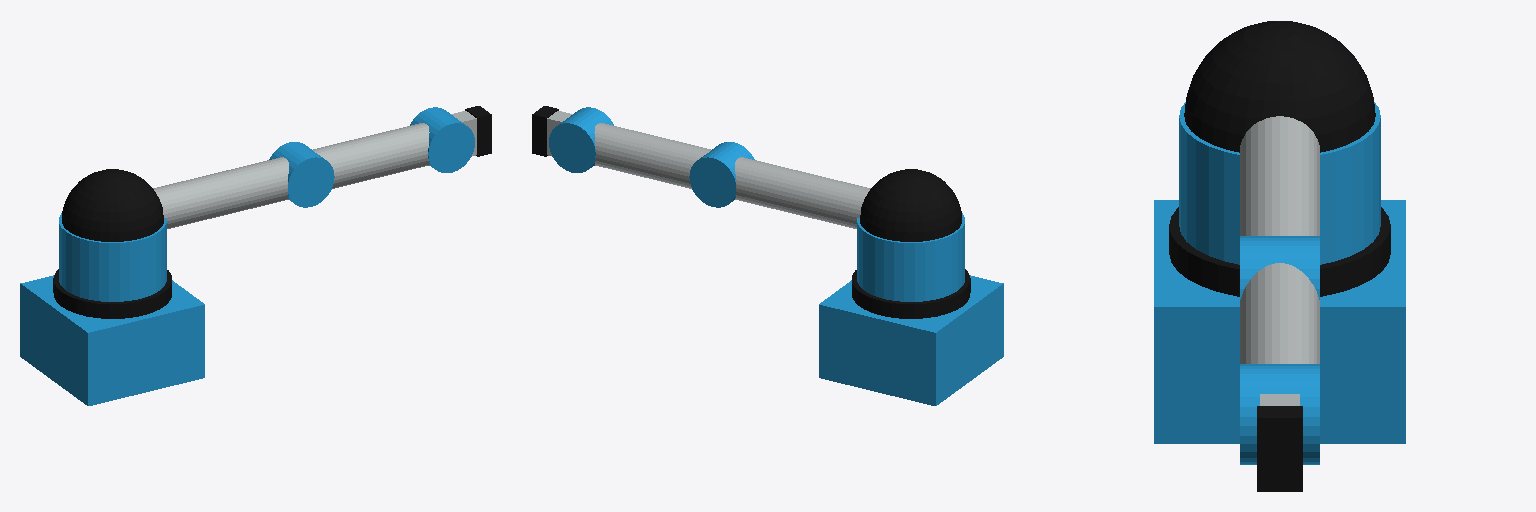
robot.urdf — simple_niryo:
<robot name="simple_niryo">

    <material name="blue">
        <color rgba="0.192157 0.643137 0.866667 1"/>
    </material>

    <material name="black">
        <color rgba="0.12 0.12 0.12 1"/>
    </material>

    <material name="silver">
        <color rgba="0.73 0.75 0.75 1"/>
    </material>

    <!-- WORLD -->
    <link name="world"/>

    <!-- [REQUIRED] BASE LINK -->
    <link name="base_link">
        <visual>
            <geometry>
                <box size="0.25 0.25 0.15"/>
            </geometry>
            <origin rpy="0 0 0" xyz="0 0 0.075"/>
            <material name="blue"/>
        </visual>
    </link>
    <joint name="world_to_base_link_joint" type="fixed">
        <parent link="world"/>
        <child link="base_link"/>
        <origin rpy="0 0 0" xyz="0 0 0"/>
    </joint>

    <!-- [OPTIONAL] VISUAL FOR SHOULDER LINK JOINT -->
    <link name="shoulder_juncture">
        <visual>
            <geometry>
                <cylinder length="0.03" radius="0.11"/>
            </geometry>
            <origin xyz="0 0 0.015"/>
            <material name="black"/>
        </visual>
    </link>
    <joint name="shoulder_juncture_joint" type="fixed">
        <parent link="base_link"/>
        <child link="shoulder_juncture"/>
        <origin rpy="0 0 0" xyz="0 0 0.15"/>
    </joint>

    <!-- SHOULDER LINK -->
    <link name="shoulder_link">
        <visual>
            <geometry>
                <cylinder length="0.15" radius="0.1"/>
            </geometry>
            <origin rpy="0 0 0" xyz="0 0 0.075"/>
            <material name="blue"/>
        </visual>
    </link>
    <joint name="base_to_shoulder_joint" type="revolute">
        <parent link="base_link"/>
        <child link="shoulder_link"/>
        <origin rpy="0 0 0" xyz="0 0 0.15"/>
        <axis xyz="0 0 1"/>
        <limit effort="1000.0" lower="-2.617994" upper="2.617994" velocity="0.5"/>
    </joint>

    <!-- [OPTIONAL] VISUAL FOR ELBOW LINK JOINT -->
    <link name="elbow_juncture">
        <visual>
            <geometry>
                <sphere radius="0.095"/>
            </geometry>
            <material name="black"/>
        </visual>
    </link>
    <joint name="elbow_juncture_joint" type="fixed">
        <parent link="shoulder_link"/>
        <child link="elbow_juncture"/>
        <origin rpy="0 0 0" xyz="0 0 0.15"/>
    </joint>

    <!-- ELBOW LINK -->
    <link name="elbow_link">
        <visual>
            <geometry>
                <cylinder length="0.4" radius="0.04"/>
            </geometry>
            <origin rpy="0 1.570796 0" xyz="0.2 0 0"/>
            <material name="silver"/>
        </visual>
    </link>
    <joint name="shoulder_to_elbow_joint" type="revolute">
        <parent link="shoulder_link"/>
        <child link="elbow_link"/>
        <origin rpy="1.570796 0 0" xyz="0 0 0.15"/>
        <axis xyz="0 0 1"/>
        <limit effort="1000.0" lower="-0.1745329" upper="3.490659" velocity="0.5"/>
    </joint>

    <!-- [OPTIONAL] VISUAL FOR WRIST LINK JOINT -->
    <link name="wrist_juncture">
        <visual>
            <geometry>
                <cylinder length="0.08" radius="0.05"/>
            </geometry>
            <origin rpy="0 0 0" xyz="0 0 0"/>
            <material name="blue"/>
        </visual>
    </link>
    <joint name="wrist_juncture_joint" type="fixed">
        <parent link="elbow_link"/>
        <child link="wrist_juncture"/>
        <origin rpy="0 0 0" xyz="0.4 0 0"/>
    </joint>

    <!-- WRIST LINK -->
    <link name="wrist_link">
        <visual>
            <geometry>
                <cylinder length="0.3" radius="0.04"/>
            </geometry>
            <origin rpy="0 1.570796 0" xyz="0.15 0 0"/>
            <material name="silver"/>
        </visual>
    </link>
    <joint name="elbow_to_wrist_joint" type="revolute">
        <parent link="elbow_link"/>
        <child link="wrist_link"/>
        <origin rpy="0 0 0" xyz="0.4 0 0"/>
        <axis xyz="0 0 1"/>
        <limit effort="1000.0" lower="-1.745329" upper="1.745329" velocity="0.5"/>
    </joint>

    <!-- [OPTIONAL] VISUAL FOR KNUCKLE LINK JOINT -->
    <link name="knuckle_juncture">
        <visual>
            <geometry>
                <cylinder length="0.08" radius="0.05"/>
            </geometry>
            <origin rpy="0 0 0" xyz="0 0 0"/>
            <material name="blue"/>
        </visual>
    </link>
    <joint name="knuckle_juncture_joint" type="fixed">
        <parent link="wrist_link"/>
        <child link="knuckle_juncture"/>
        <origin rpy="0 0 0" xyz="0.3 0 0"/>
    </joint>

    <!-- KNUCKLE LINK -->
    <link name="knuckle_link">
        <visual>
            <geometry>
                <box size="0.08 0.075 0.04"/>
            </geometry>
            <origin rpy="0 0 0" xyz="0.04 0 0"/>
            <material name="silver"/>
        </visual>
    </link>
    <joint name="wrist_to_hand_joint" type="revolute">
        <parent link="wrist_link"/>
        <child link="knuckle_link"/>
        <origin rpy="0 0 0" xyz="0.3 0 0"/>
        <axis xyz="0 0 1"/>
        <limit effort="1000.0" lower="-1.570796" upper="1.570796" velocity="0.5"/>
    </joint>

    <!-- [OPTIONAL] VISUAL FOR FINGER LINK JOINT -->
    <link name="finger_juncture">
        <visual>
            <geometry>
                <box size="0.03 0.08 0.045"/>
            </geometry>
            <material name="black"/>
        </visual>
    </link>
    <joint name="finger_juncture_joint" type="fixed">
        <parent link="knuckle_link"/>
        <child link="finger_juncture"/>
        <origin xyz="0.08 0 0"/>
    </joint>

    <!-- LEFT FINGER LINK -->
    <link name="left_finger_link">
        <visual>
            <geometry>
                <mesh filename="package://ned_description/meshes/l_finger.dae"/>
            </geometry>
            <origin xyz="0.01 0.02 0"/>
        </visual>
    </link>
    <joint name="knuckle_to_left_finger_joint" type="revolute">
        <parent link="knuckle_link"/>
        <child link="left_finger_link"/>
        <origin rpy="0 0 0" xyz="0.08 0 0"/>
        <axis xyz="0 0 1"/>
        <limit effort="1000.0" lower="-0.17" upper="0.548" velocity="0.5"/>
    </joint>

    <!-- RIGHT FINGER LINK -->
    <link name="right_finger_link">
        <visual>
            <geometry>
                <mesh filename="package://ned_description/meshes/l_finger.dae"/>
            </geometry>
            <origin rpy="3.141593 0 0" xyz="0.01 -0.02 0"/>
        </visual>
    </link>
    <joint name="knuckle_to_right_finger_joint" type="revolute">
        <parent link="knuckle_link"/>
        <child link="right_finger_link"/>
        <origin rpy="0 0 0" xyz="0.08 0 0"/>
        <axis xyz="0 0 1"/>
        <limit effort="1000.0" lower="-0.548" upper="0.17" velocity="0.5"/>
    </joint>

</robot>

--- Render facts (derived) ---
Views: 3 orthographic renders of the robot side by side, from view 1: azimuth 30°, elevation 25°; view 2: azimuth 150°, elevation 25°; view 3: azimuth 270°, elevation 25°.
Robot: simple_niryo — 13 links, 12 joints (6 revolute, 6 fixed); root link world; default pose: every joint at zero.
Links seen in each view (by area): view 1: base_link, shoulder_link, elbow_juncture, elbow_link, wrist_link, knuckle_juncture, wrist_juncture, shoulder_juncture, finger_juncture; view 2: base_link, shoulder_link, elbow_juncture, elbow_link, wrist_link, knuckle_juncture, wrist_juncture, shoulder_juncture, finger_juncture; view 3: base_link, elbow_juncture, shoulder_link, elbow_link, wrist_link, shoulder_juncture, knuckle_juncture, finger_juncture, wrist_juncture.
Link boxes in pixels (bbox=[...]): base_link: bbox=[20, 275, 204, 405]; shoulder_link: bbox=[59, 213, 166, 301]; elbow_juncture: bbox=[62, 169, 163, 241]; elbow_link: bbox=[153, 157, 288, 228]; wrist_link: bbox=[313, 123, 429, 188]; knuckle_juncture: bbox=[410, 107, 474, 172]; wrist_juncture: bbox=[269, 142, 334, 207]; shoulder_juncture: bbox=[53, 269, 171, 318]; finger_juncture: bbox=[465, 106, 491, 156]; base_link: bbox=[819, 275, 1003, 405]; shoulder_link: bbox=[857, 213, 964, 301]; elbow_juncture: bbox=[860, 169, 961, 241]; elbow_link: bbox=[735, 157, 870, 228]; wrist_link: bbox=[594, 123, 710, 188]; knuckle_juncture: bbox=[549, 107, 613, 172]; wrist_juncture: bbox=[689, 142, 754, 207]; shoulder_juncture: bbox=[852, 269, 970, 318]; finger_juncture: bbox=[532, 106, 558, 156]; base_link: bbox=[1154, 200, 1405, 443]; elbow_juncture: bbox=[1184, 21, 1375, 152]; shoulder_link: bbox=[1179, 102, 1380, 264]; elbow_link: bbox=[1240, 116, 1319, 235]; wrist_link: bbox=[1240, 263, 1319, 363]; shoulder_juncture: bbox=[1169, 207, 1390, 296]; knuckle_juncture: bbox=[1240, 364, 1319, 464]; finger_juncture: bbox=[1257, 406, 1302, 491]; wrist_juncture: bbox=[1240, 236, 1319, 299].
Bounding box of the posed robot: 0.92 × 0.25 × 0.395 m (x, y, z).
Meshes: 1 distinct files referenced, 0 mesh visuals loaded (none loaded); not drawn: 2 (reference not matched to a file when rendering).